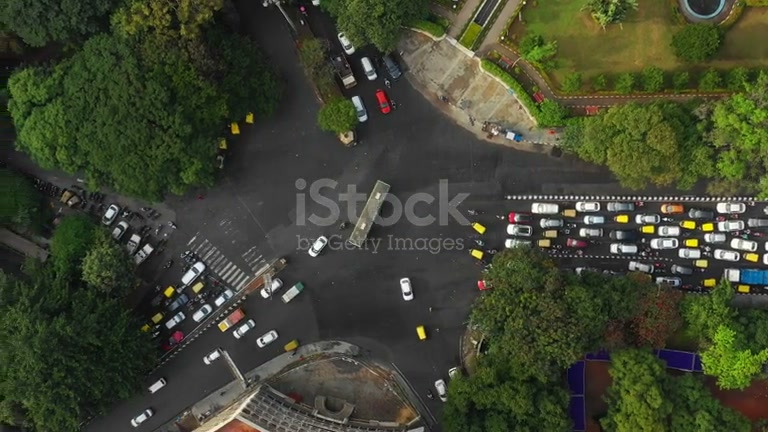car: (226, 339, 426, 430), (350, 95, 369, 124)
